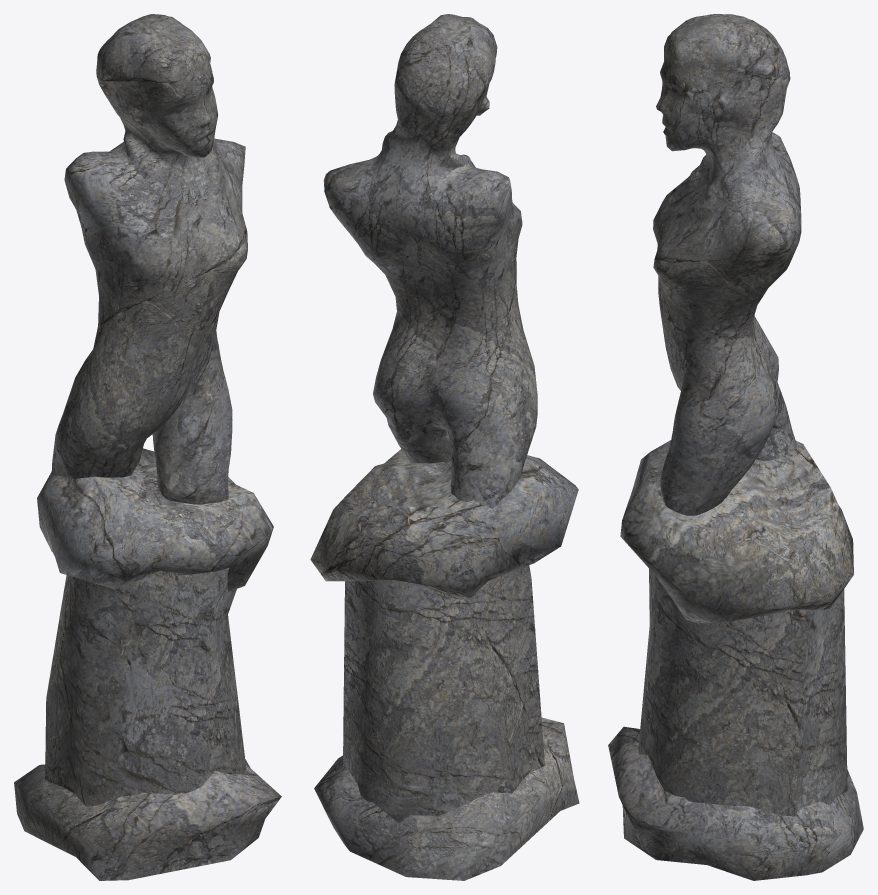
File: Statue_1.fbx
3 renders of one model, left to right at view 1: azimuth 30°, elevation 25°; view 2: azimuth 150°, elevation 25°; view 3: azimuth 270°, elevation 25°, orthographic. The views are drawn at different scales.
Visible parts, largest first — view 1: Statue_1_column_LOD0, Statue_1_LOD0; view 2: Statue_1_column_LOD0, Statue_1_LOD0; view 3: Statue_1_column_LOD0, Statue_1_LOD0.
Part boxes in pixels (bbox=[...]): Statue_1_column_LOD0: bbox=[14, 448, 281, 880]; Statue_1_LOD0: bbox=[50, 14, 247, 504]; Statue_1_column_LOD0: bbox=[310, 449, 579, 880]; Statue_1_LOD0: bbox=[323, 14, 537, 508]; Statue_1_column_LOD0: bbox=[608, 440, 863, 880]; Statue_1_LOD0: bbox=[653, 14, 801, 515].
Size of what is drawn, in the model's own units: 4.85 by 17.63 by 4.95.
